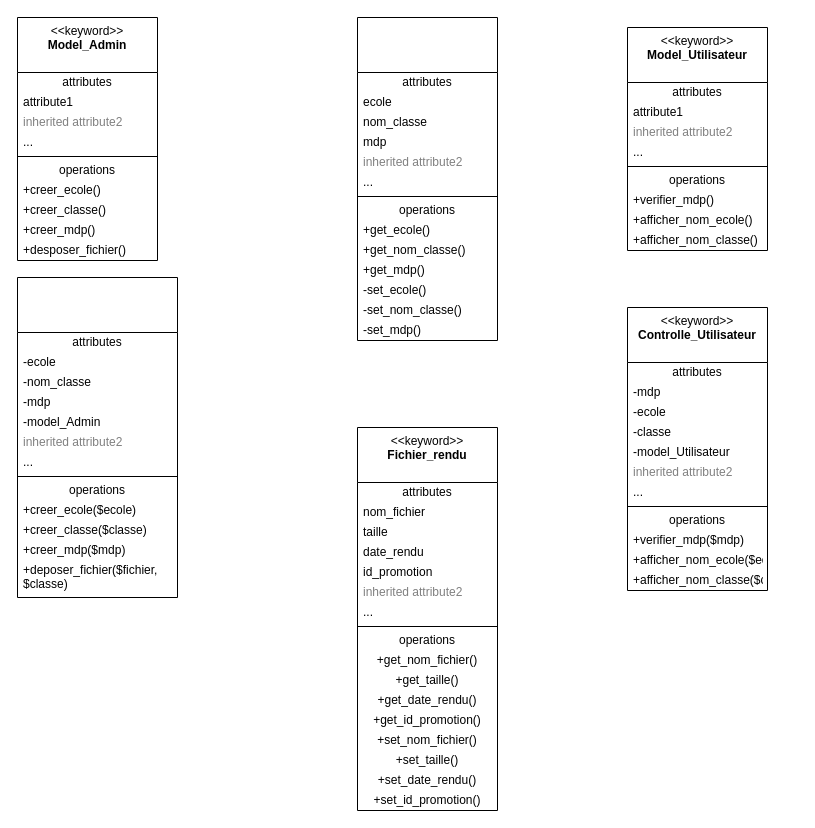
Some shapes in this 815 by 828 pixel diagram are drawn without their labels. Each missing label, with the box of its shape:
<<keyword>> Controlle_admin: (16, 276, 178, 598)
<<keyword>> Promotion: (356, 16, 498, 340)
